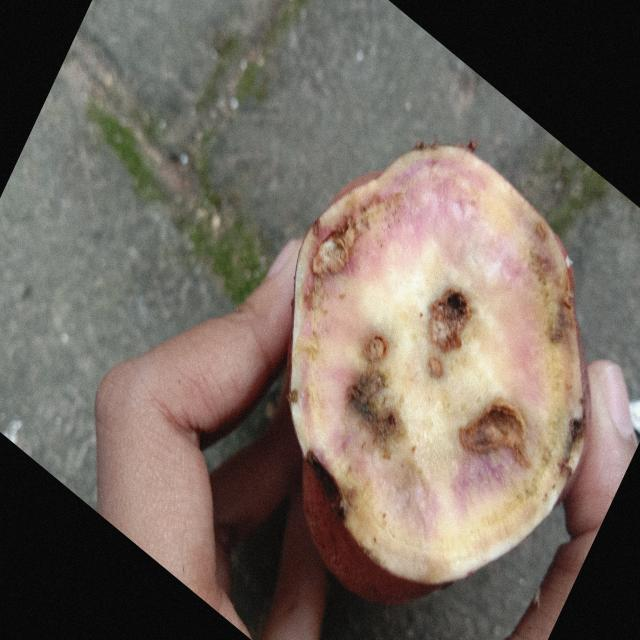Sick Sweet Potato_Tuber Rot: (289, 142, 589, 603)
